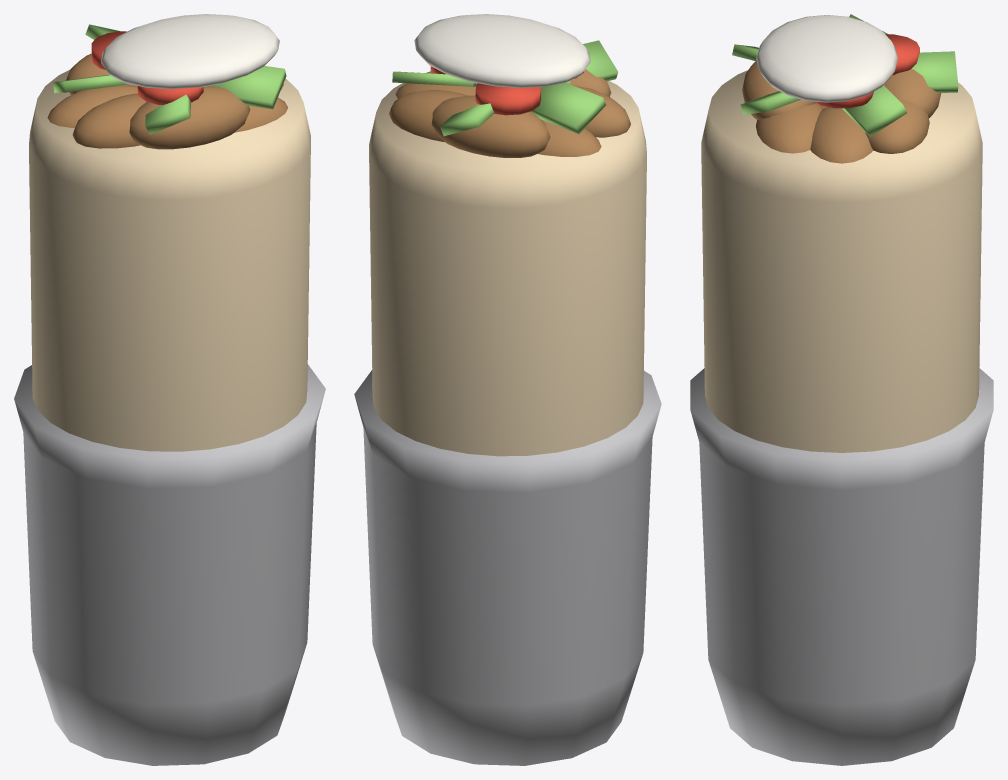
File: SM_Kebab.glb
3 renders of one model, left to right at view 1: azimuth 30°, elevation 25°; view 2: azimuth 150°, elevation 25°; view 3: azimuth 270°, elevation 25°, orthographic.
Visible parts, largest first — view 1: SM_Kebab; view 2: SM_Kebab; view 3: SM_Kebab.
Boxes of the visible parts, x1=… form: SM_Kebab: x1=14, y1=14, x2=325, y2=765; SM_Kebab: x1=354, y1=14, x2=661, y2=765; SM_Kebab: x1=690, y1=14, x2=993, y2=765.
Bounding box in the file's own units: 0.084 × 0.2036 × 0.0819.
